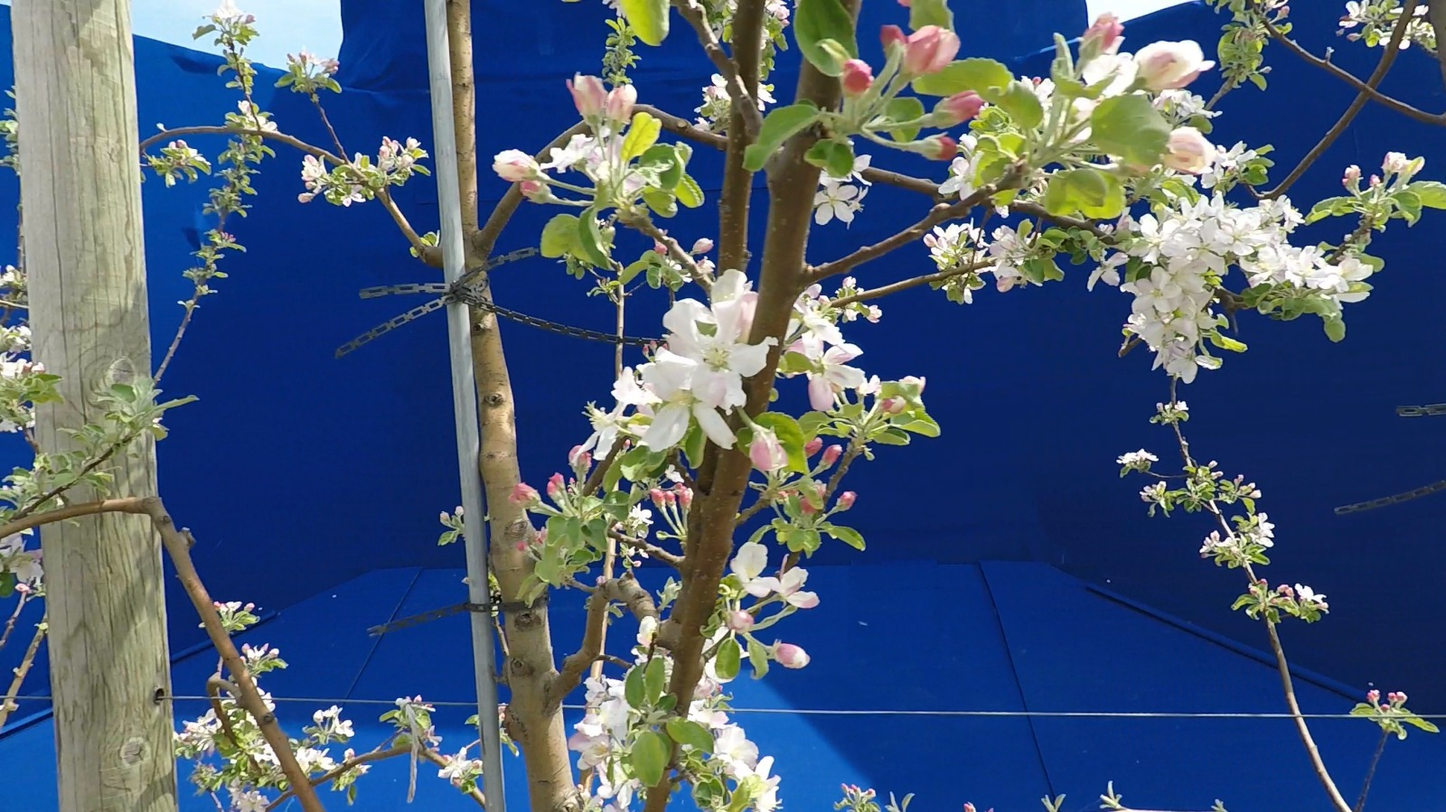flower: (1087, 191, 1373, 384), (569, 269, 779, 478), (1077, 14, 1223, 119), (688, 657, 783, 812), (785, 285, 882, 414), (568, 675, 640, 810), (493, 134, 628, 182), (728, 542, 821, 609), (1169, 127, 1257, 189), (813, 155, 871, 227), (973, 220, 1031, 292), (882, 25, 960, 75), (935, 133, 984, 201), (571, 75, 637, 125), (925, 218, 981, 263), (750, 423, 789, 477), (439, 740, 482, 782), (0, 326, 33, 379), (946, 90, 993, 126), (298, 155, 332, 203), (1010, 76, 1056, 108), (695, 74, 731, 113), (287, 50, 339, 75), (343, 185, 388, 212), (315, 706, 354, 737), (10, 560, 44, 594), (772, 641, 810, 669), (296, 747, 336, 773), (651, 481, 694, 505), (726, 601, 756, 635), (844, 61, 874, 93), (1296, 584, 1329, 613), (176, 140, 211, 165), (1250, 513, 1275, 547), (232, 789, 268, 812), (765, 0, 790, 33), (1381, 152, 1414, 175), (637, 616, 658, 649), (509, 483, 541, 504), (380, 136, 402, 166), (217, 0, 243, 25), (1117, 449, 1159, 464), (629, 504, 654, 529), (684, 238, 714, 258), (1347, 0, 1373, 23), (256, 114, 281, 135), (1200, 531, 1221, 554), (880, 397, 906, 414), (964, 282, 985, 303), (242, 644, 269, 660), (757, 83, 777, 104), (548, 473, 565, 497), (32, 354, 52, 373), (838, 491, 858, 510), (695, 257, 716, 274), (221, 602, 241, 619), (654, 238, 668, 262), (691, 117, 710, 133), (239, 101, 255, 118), (804, 440, 822, 455), (1075, 98, 1095, 111), (1346, 165, 1361, 179), (1157, 403, 1170, 417), (1388, 692, 1407, 701), (262, 649, 279, 659), (1173, 402, 1188, 413), (1367, 692, 1380, 703), (1340, 22, 1358, 28), (245, 603, 255, 611), (788, 352, 800, 355), (836, 511, 845, 513)
